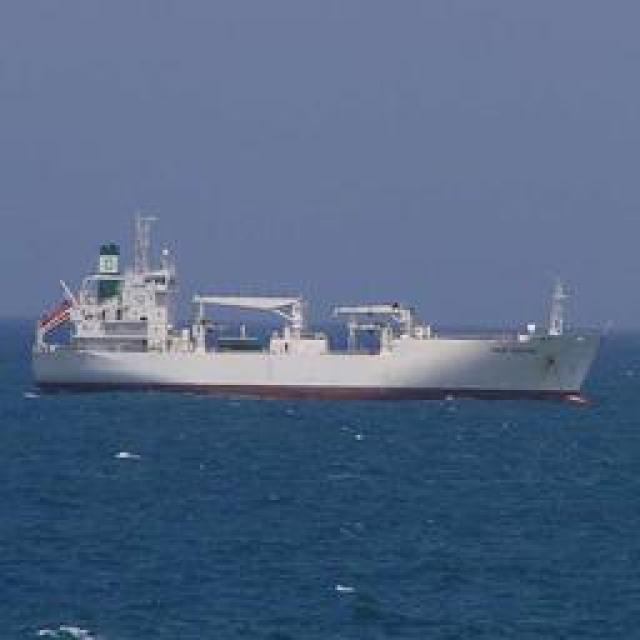CIV_Ship: (34, 237, 598, 405)
